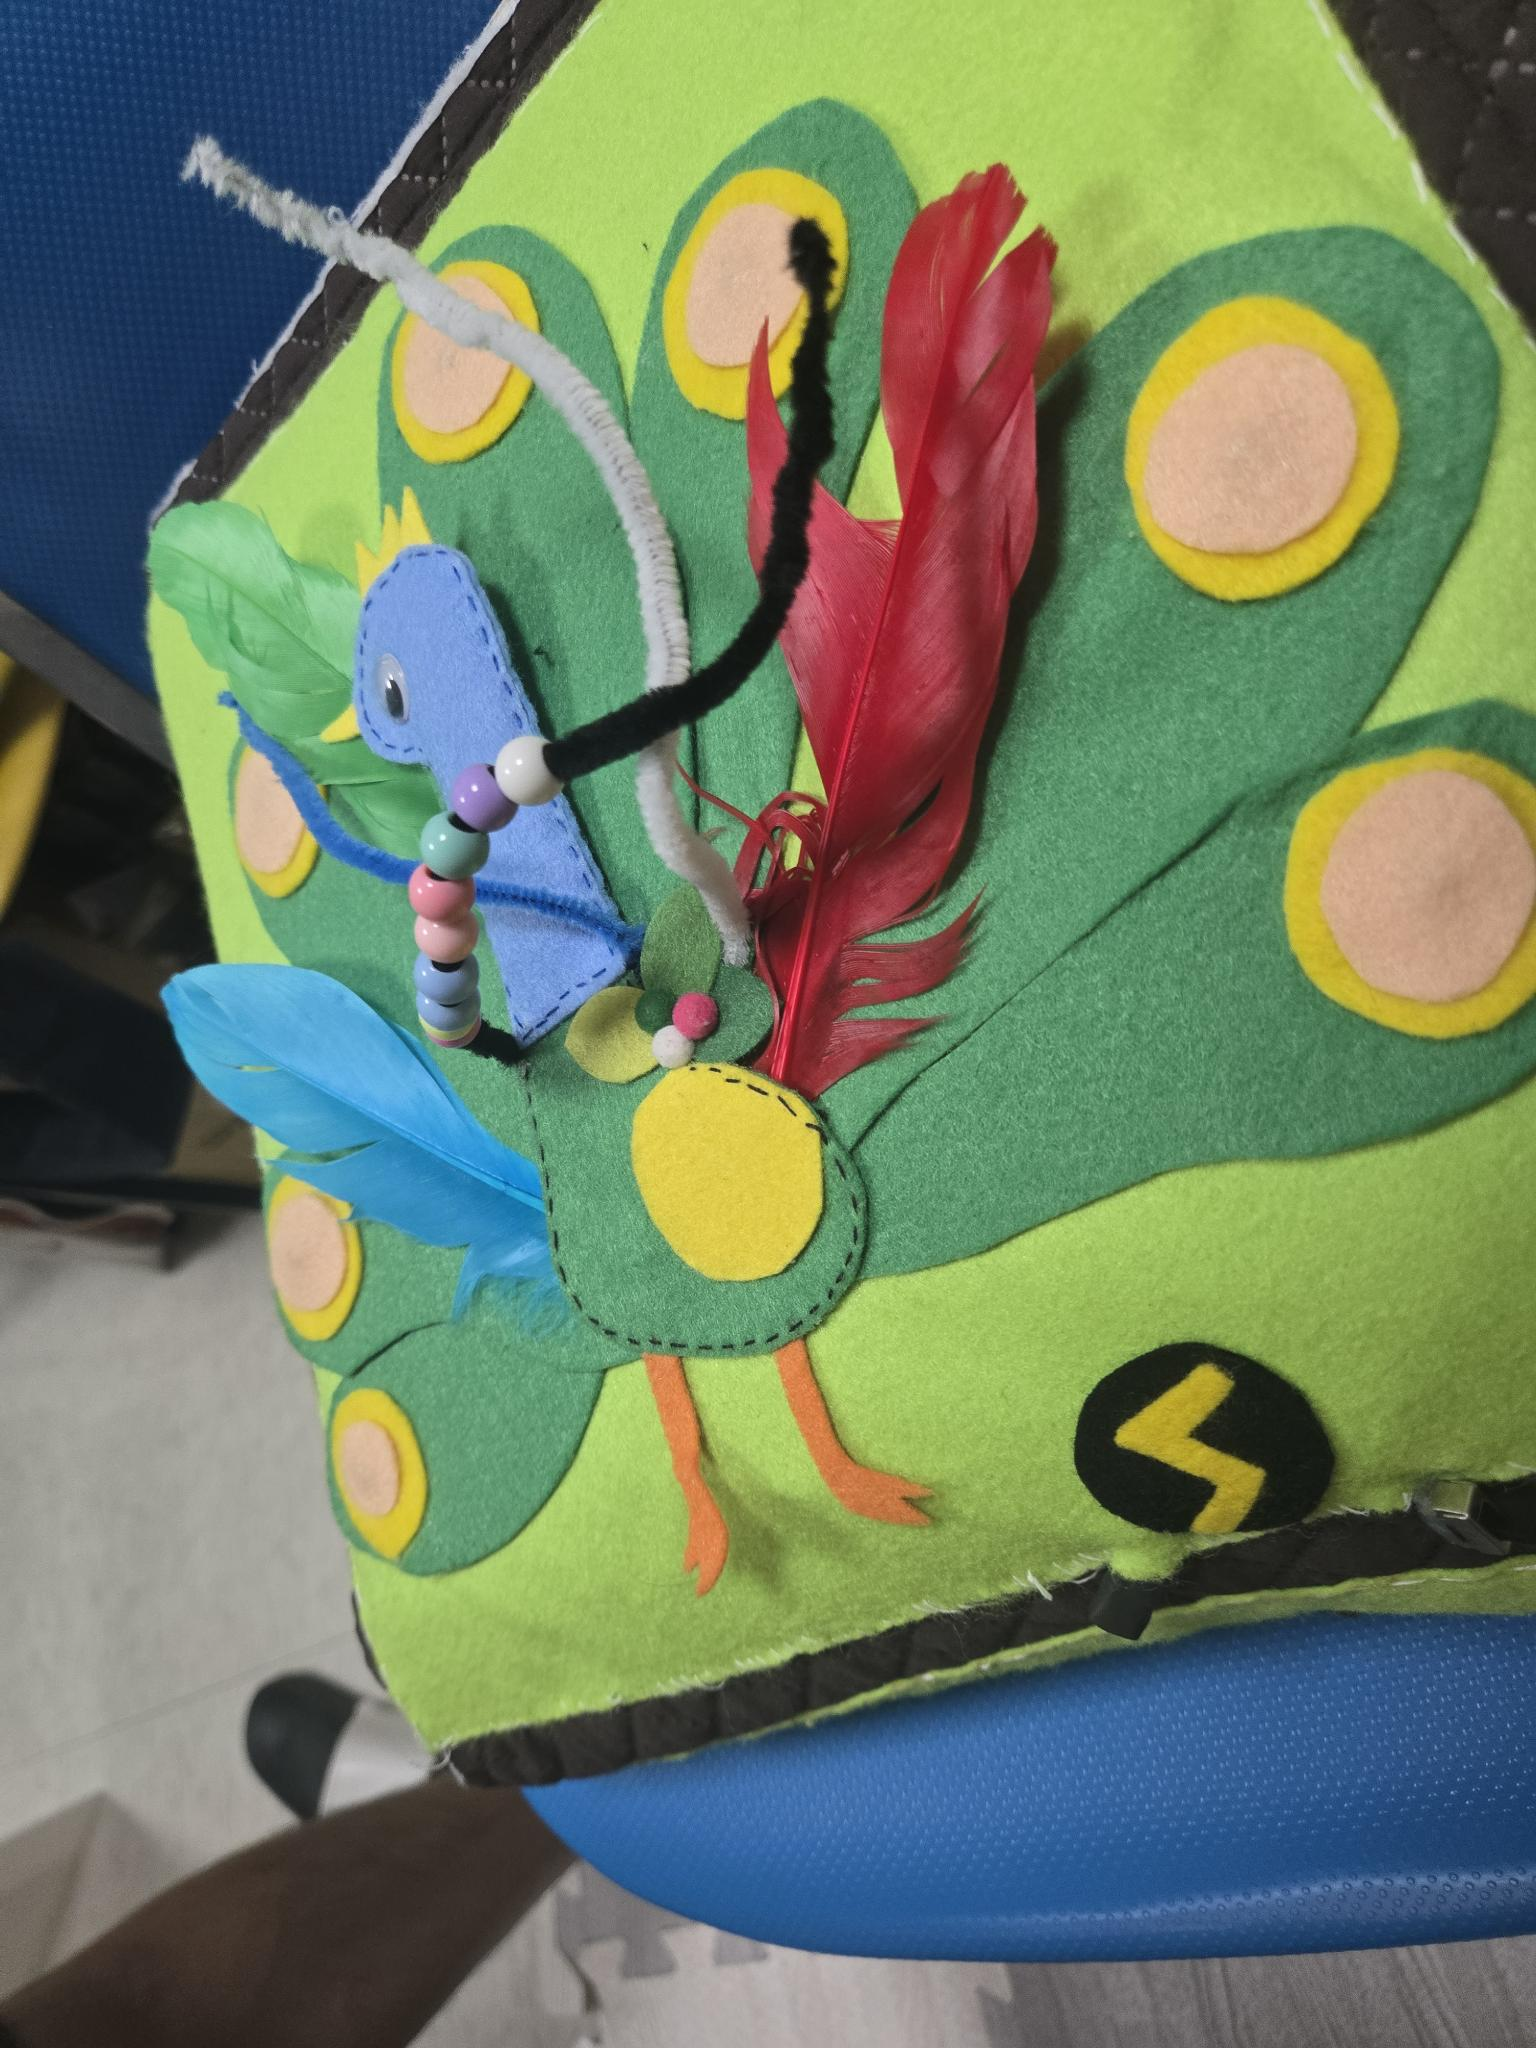bead: (410, 806, 489, 876), (486, 735, 560, 806), (445, 761, 515, 832), (410, 863, 476, 924), (419, 1021, 508, 1061), (410, 945, 481, 995), (410, 992, 489, 1034), (416, 919, 479, 963)
